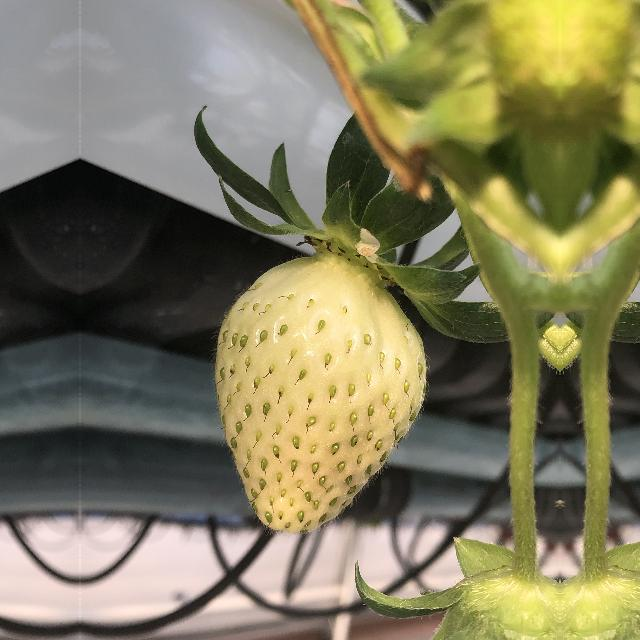Health_25: (202, 248, 432, 540)
